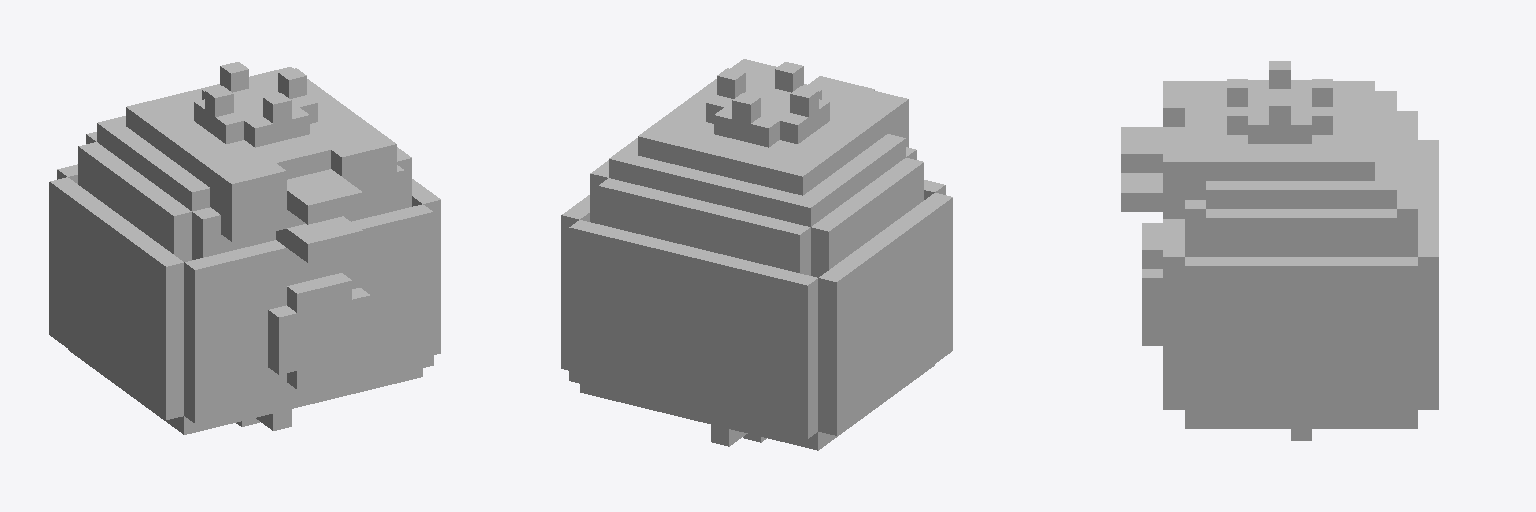
Rendered from PlayerDamage.obj.
The picture shows the model from 3 angles: view 1: azimuth 30°, elevation 25°; view 2: azimuth 150°, elevation 25°; view 3: azimuth 270°, elevation 25°; orthographic projection.
Parts seen in each view (by area): view 1: Untitled; view 2: Untitled; view 3: Untitled.
Boxes of the visible parts, <box> form: Untitled: <box>49,62,440,434</box>; Untitled: <box>561,59,952,450</box>; Untitled: <box>1121,61,1438,440</box>.
Bounding box in the file's own units: 1.5 × 1.8 × 1.5.